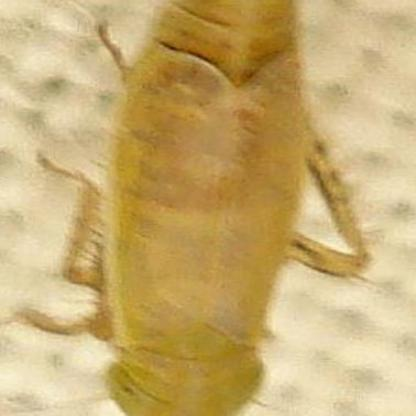green-leafhopper: (100, 0, 341, 416)
